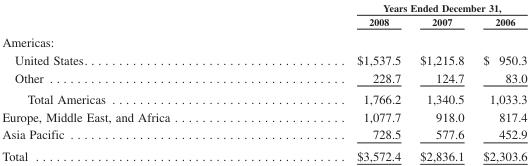table: (1, 1, 526, 162)
table column: (1, 1, 262, 162), (262, 1, 409, 162), (409, 1, 473, 162), (473, 1, 526, 162)
table column header: (1, 1, 526, 30)
table projected row header: (1, 30, 526, 50)
table row: (1, 30, 526, 50), (1, 68, 526, 88), (1, 88, 526, 107), (1, 125, 526, 144), (1, 50, 526, 68), (1, 107, 526, 125), (1, 144, 526, 162), (1, 14, 526, 30), (1, 1, 526, 14)
table spanning cell: (262, 1, 526, 14)
